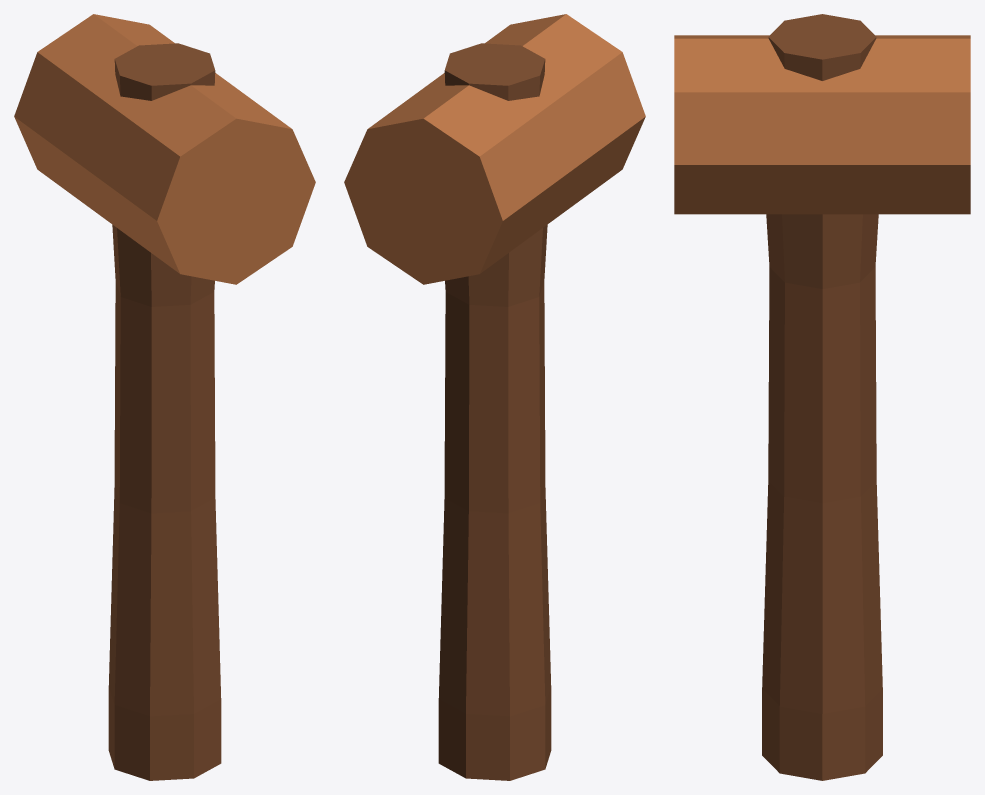
File: hammer04.obj
3 renders of one model, left to right at view 1: azimuth 30°, elevation 25°; view 2: azimuth 150°, elevation 25°; view 3: azimuth 270°, elevation 25°, orthographic. The views are drawn at different scales.
Visible parts, largest first — view 1: Cylinder; view 2: Cylinder; view 3: Cylinder.
Part boxes in pixels (bbox=[...]): Cylinder: bbox=[14, 14, 315, 780]; Cylinder: bbox=[344, 14, 645, 780]; Cylinder: bbox=[674, 14, 970, 780].
Size of the model in its own units: 0.0408 by 0.1702 by 0.0637.
1 material, 1 textured.
